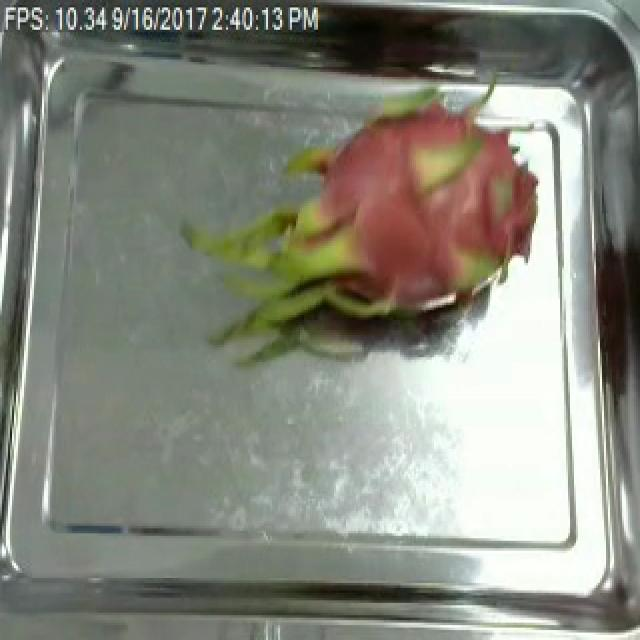fruit: (172, 32, 560, 397)
